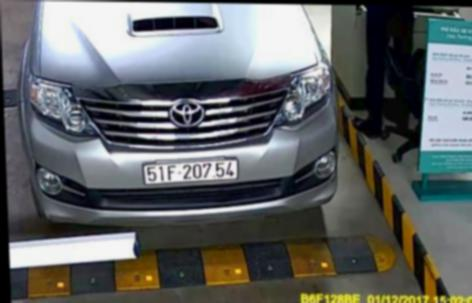License_Plate: (139, 156, 240, 186)
